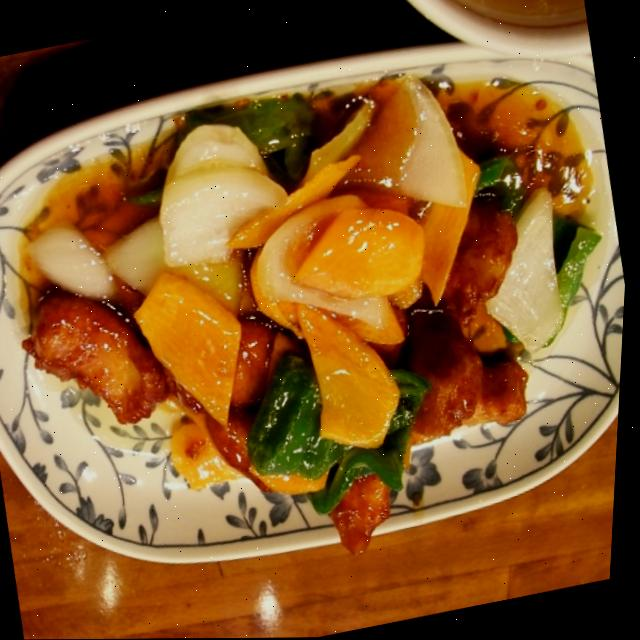猪肉菜式: (0, 43, 638, 616)
